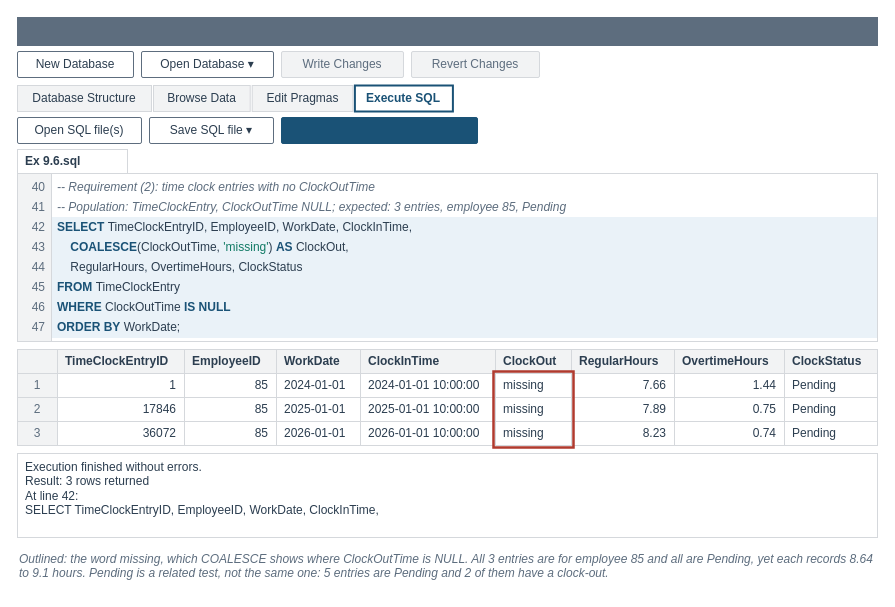
Some shapes in this 895 by 607 pixel diagram are drawn without their labels. Here are the shapes that lost their labels. From the top down, the centre of each, then its label:
At point 447,31: "DB Browser for SQLite - C:\Users\you\Documents\CharlesRiver_Work.sqlite".
At point 379,130: "▶ Execute all/selected SQL".
